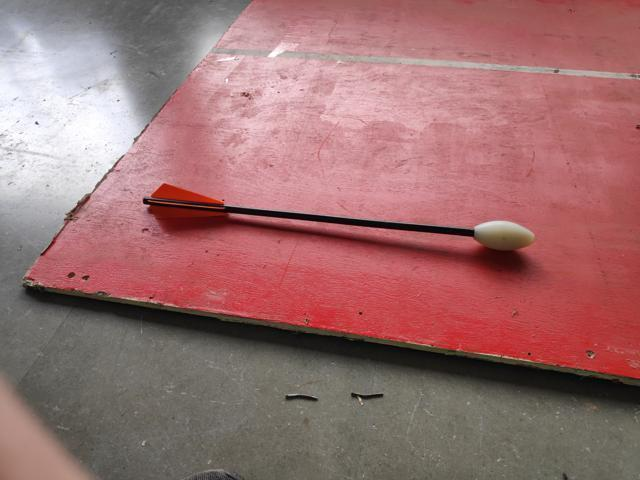Head: (467, 218, 537, 252)
Tail: (141, 182, 227, 219)
